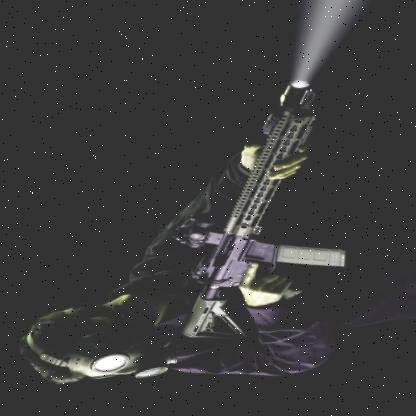rifle: (122, 64, 389, 351)
